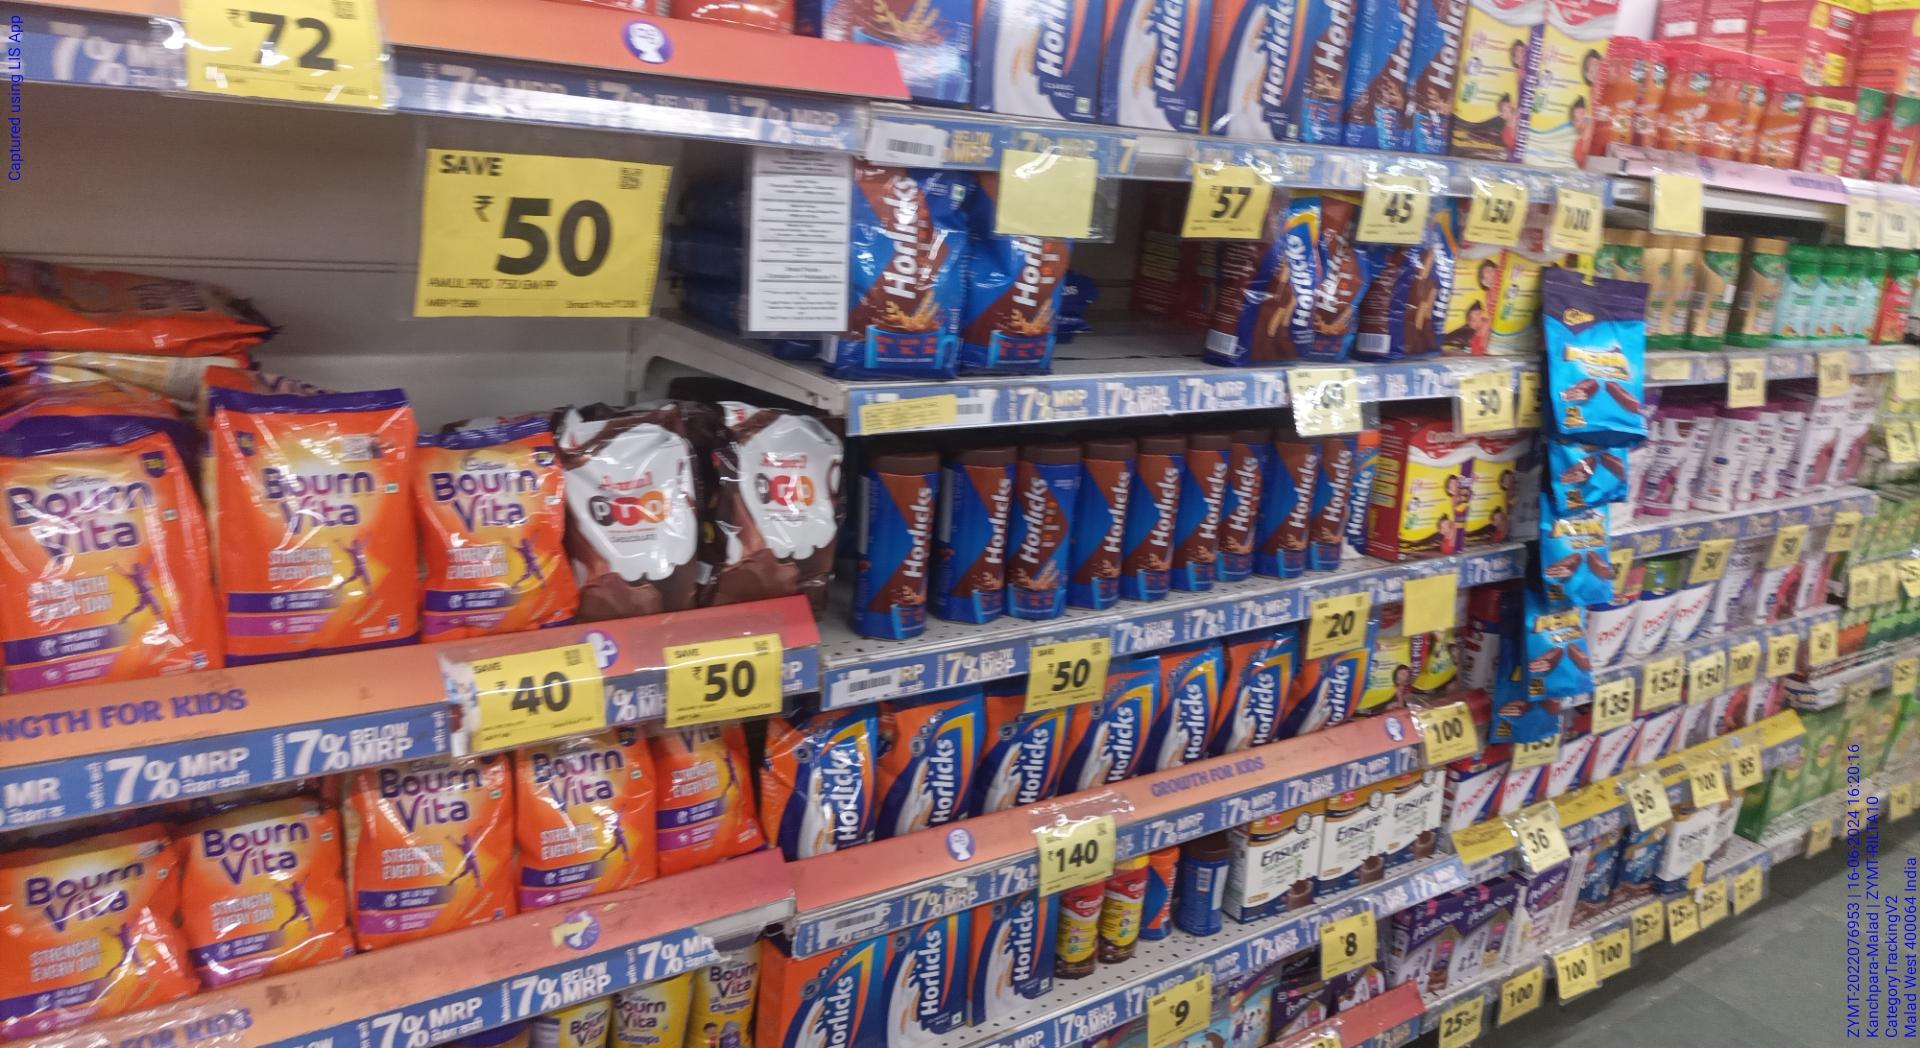COMPLAN_CHOCOLATE_200_GMS_JAR: (1105, 861, 1147, 963), (1061, 888, 1103, 980)
